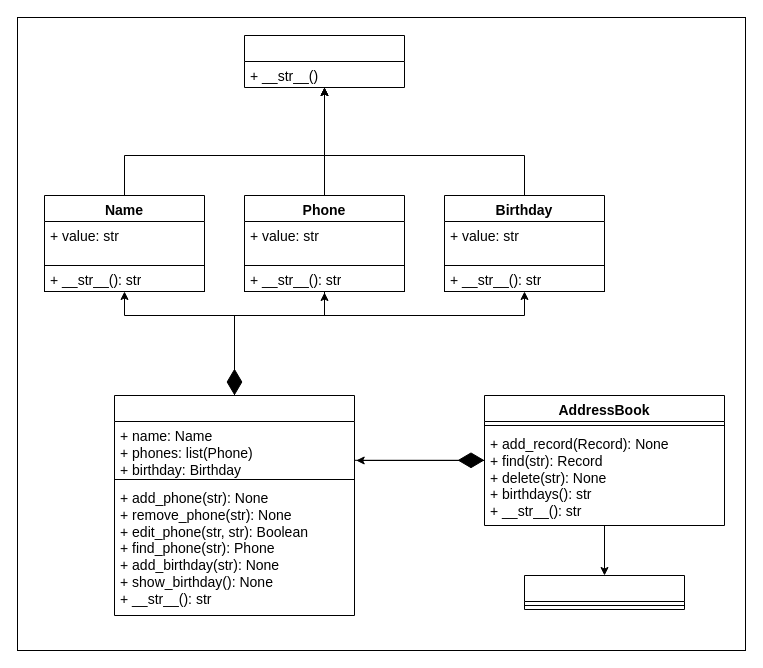
Some shapes in this 763 by 668 pixel diagram are drawn without their labels. Each missing label, with the box of its shape:
Field: (244, 34, 404, 88)
Record: (114, 394, 354, 616)
UserDict: (524, 574, 684, 610)
